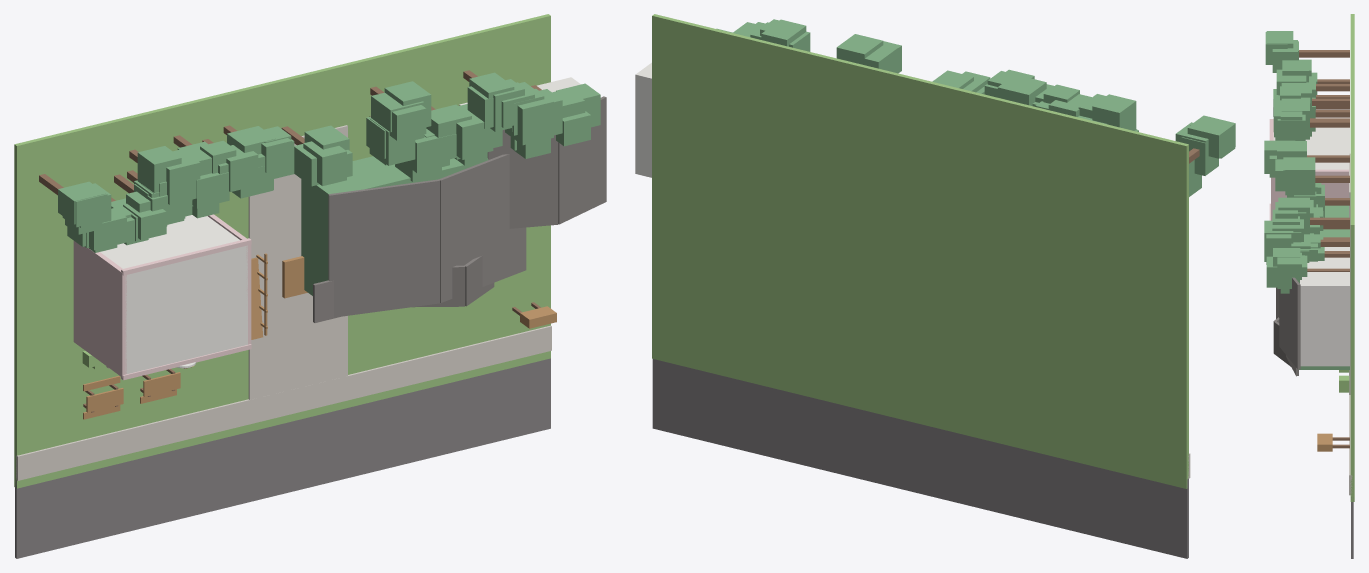
File: Sunshines_Bakery_Storefront_Godot4_v2.glb
3 views of the same model, side by side, from view 1: azimuth 30°, elevation 25°; view 2: azimuth 150°, elevation 25°; view 3: azimuth 270°, elevation 25° (orthographic). The views are drawn at different scales.
Parts seen in each view (by area): view 1: GrassLot, Road, BakeryMain, Sidewalk, GreenRoof_-1, Driveway, GreenRoof_1, BakeryLeftPink, GreenHouseMain, BackRoof_-1, BackRoof_1, TreeLeaf_6_3 (+29 smaller); view 2: GrassLot, Road, BackHouse, TreeLeaf_19_3, TreeLeaf_9_2, TreeLeaf_4_3, TreeLeaf_5_3, TreeLeaf_13_2; view 3: BackHouse, GrassLot, BackRoof_1, BakeryMain, TreeLeaf_5_3, BakeryRightPink, GreenHouseMain, TreeLeaf_16_1, TreeLeaf_4_1, TreeLeaf_13_2, TreeLeaf_4_3, TreeLeaf_2_2 (+44 smaller).
Part boxes in pixels (x1,y1,x2,y2): GrassLot: (14, 14, 550, 488); Road: (15, 358, 550, 558); BakeryMain: (100, 215, 247, 374); Sidewalk: (16, 325, 551, 480); GreenRoof_-1: (328, 179, 439, 317); Driveway: (248, 125, 347, 399); GreenRoof_1: (439, 154, 526, 302); BakeryLeftPink: (73, 241, 126, 377); GreenHouseMain: (301, 156, 488, 295); BackRoof_-1: (487, 129, 558, 228); BackRoof_1: (558, 96, 606, 224); TreeLeaf_6_3: (505, 88, 553, 145); GrassLot: (652, 14, 1188, 488); Road: (652, 359, 1188, 558); BackHouse: (635, 62, 651, 177); TreeLeaf_19_3: (1187, 116, 1235, 158); TreeLeaf_9_2: (1092, 94, 1136, 130); TreeLeaf_4_3: (997, 74, 1046, 105); TreeLeaf_5_3: (836, 34, 883, 64); TreeLeaf_13_2: (761, 19, 806, 46); BackHouse: (1300, 247, 1349, 366); GrassLot: (1350, 14, 1354, 501); BackRoof_1: (1279, 277, 1300, 369); BakeryMain: (1273, 127, 1349, 169); TreeLeaf_5_3: (1285, 159, 1315, 195); BakeryRightPink: (1271, 169, 1348, 220); GreenHouseMain: (1299, 205, 1349, 369); TreeLeaf_16_1: (1277, 252, 1301, 288); TreeLeaf_4_1: (1277, 114, 1305, 140); TreeLeaf_13_2: (1278, 197, 1309, 234); TreeLeaf_4_3: (1281, 98, 1309, 139); TreeLeaf_2_2: (1277, 141, 1306, 159).
Size of the model in its own units: 32.33 by 22.9 by 5.63.
